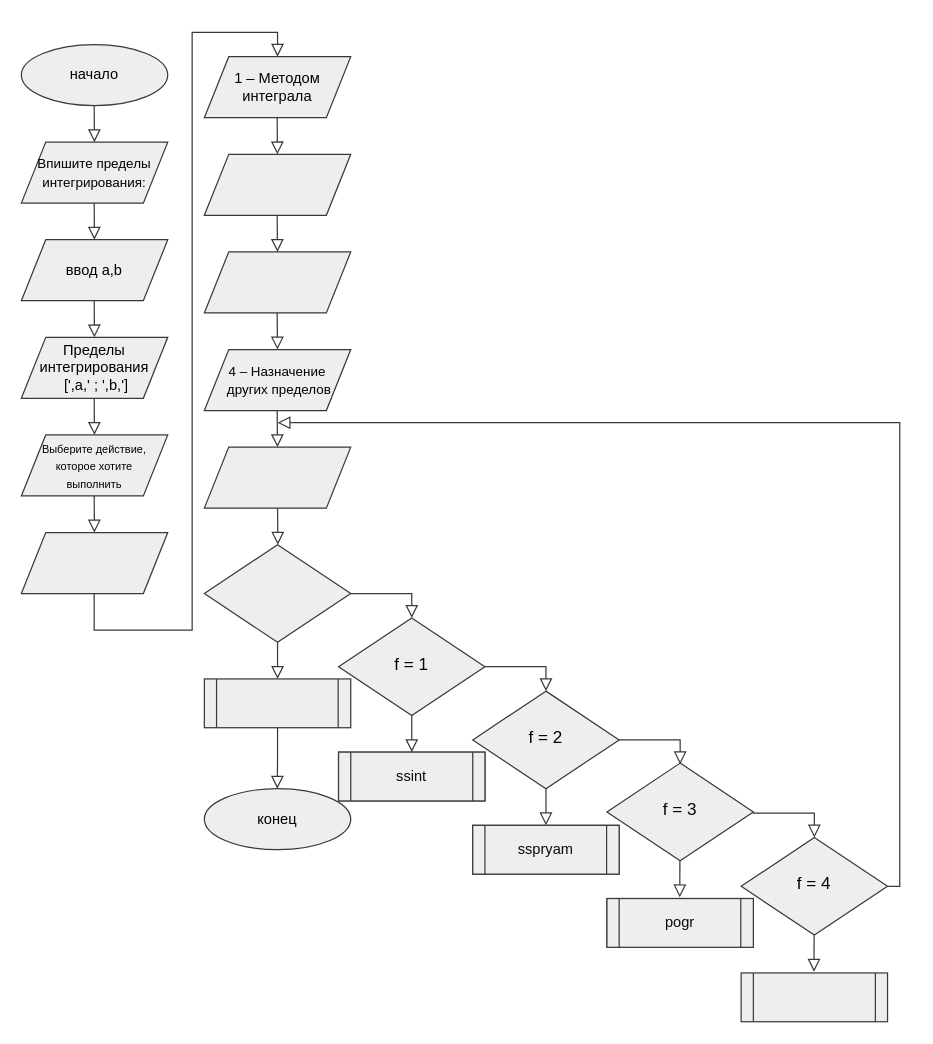
Some shapes in this 933 by 1044 pixel diagram are drawn without their labels. Each missing label, with the centre of its shape:
0 - Выход из программы: (x=94, y=562)
2 – Методом левых прямоугольников: (x=277, y=184)
3 – Оценка погрешности полученного результата между двумя методами: (x=277, y=282)
clear: (x=814, y=997)
exit: (x=277, y=703)
f = 0: (x=277, y=593)
ввод f: (x=277, y=477)
